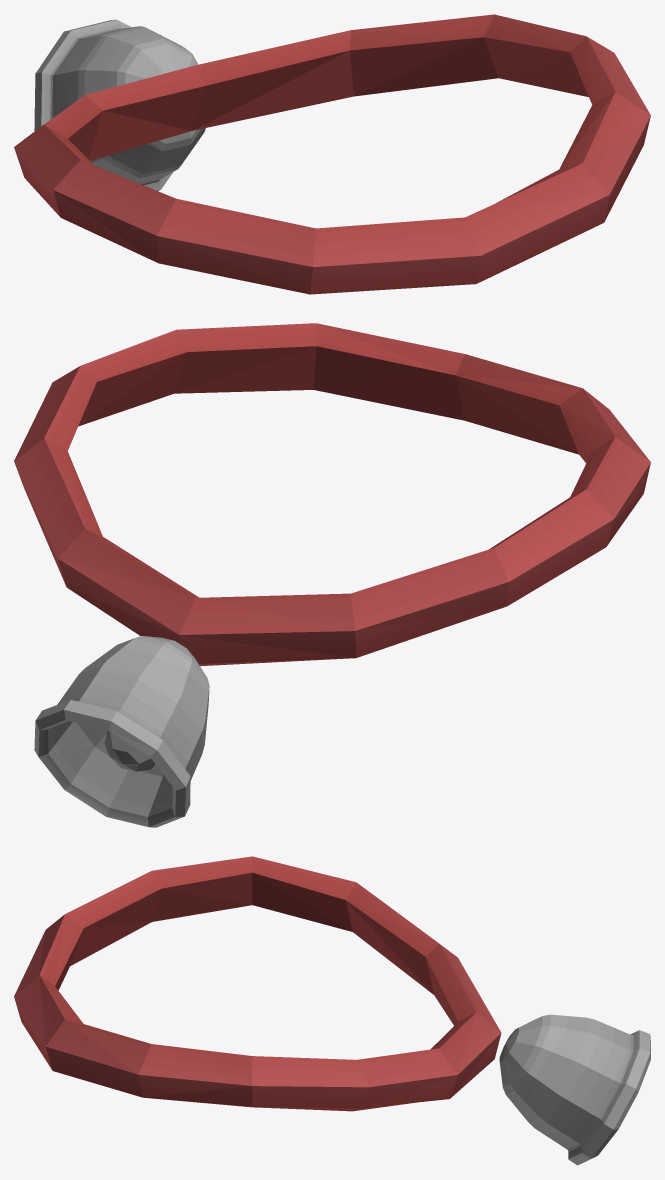
The model's file is NPC_AP24BellOnly.glb.
3 renders of one model, top to bottom at view 1: azimuth 30°, elevation 25°; view 2: azimuth 150°, elevation 25°; view 3: azimuth 270°, elevation 25°, orthographic. The views are drawn at different scales.
Visible parts, largest first — view 1: NPC_AP24BellOnly; view 2: NPC_AP24BellOnly; view 3: NPC_AP24BellOnly.
Part boxes in pixels (bbox=[...]): NPC_AP24BellOnly: bbox=[14, 14, 650, 294]; NPC_AP24BellOnly: bbox=[14, 323, 650, 827]; NPC_AP24BellOnly: bbox=[14, 856, 650, 1165].
Size of the model in its own units: 2.21 by 0.9293 by 2.68.
Materials: 1 (1 with a texture image).
